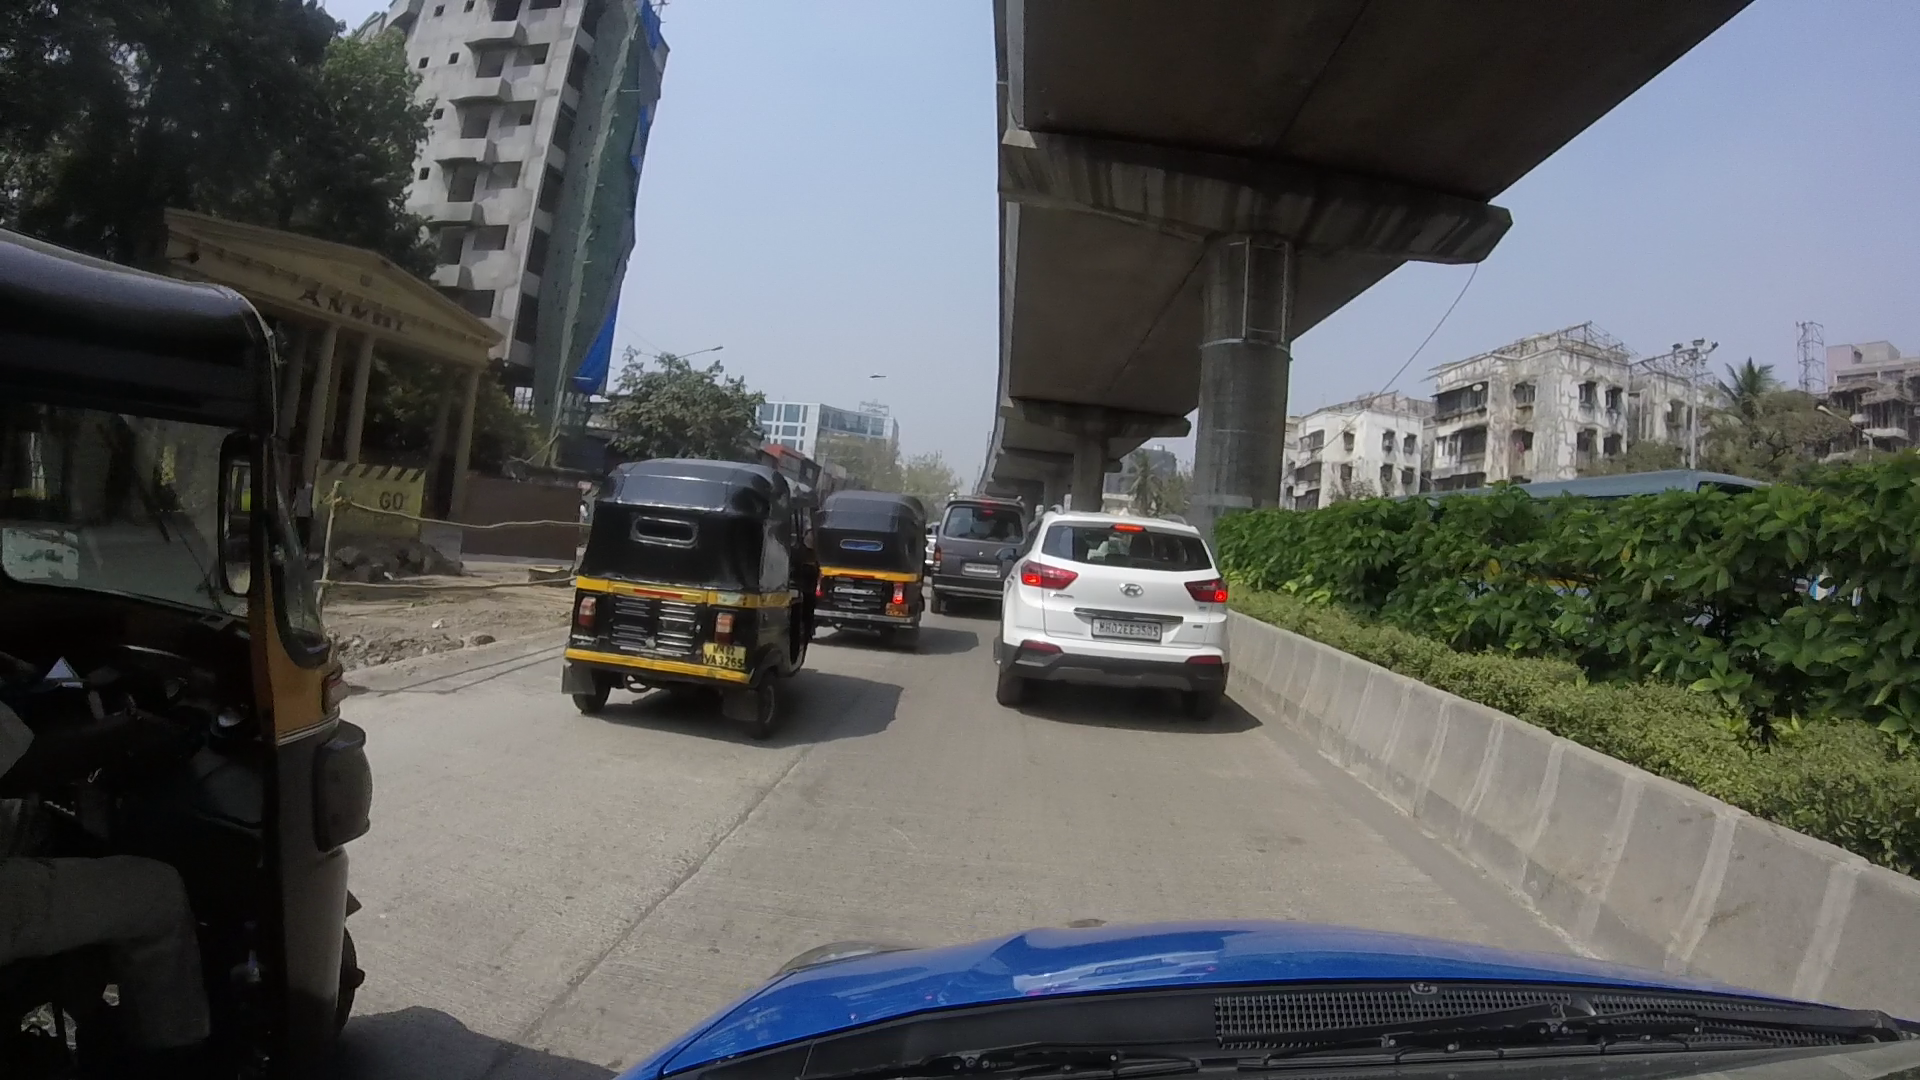car: (1004, 510, 1262, 719), (915, 475, 1048, 607)
rickshaw: (1, 225, 388, 1075), (539, 398, 829, 728), (807, 465, 953, 666)
